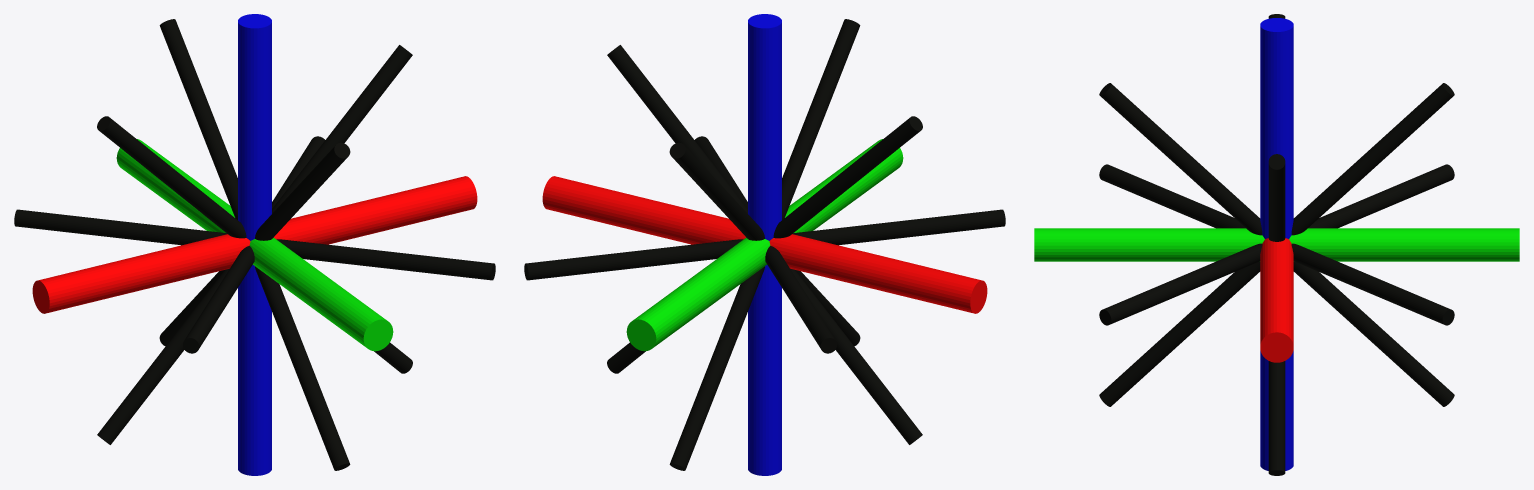
Rendered from axis_shaped_cross.glb.
3 renders of one model, left to right at view 1: azimuth 30°, elevation 25°; view 2: azimuth 150°, elevation 25°; view 3: azimuth 270°, elevation 25°, orthographic.
Visible parts, largest first — view 1: Cross_axis_shaped; view 2: Cross_axis_shaped; view 3: Cross_axis_shaped.
Boxes of the visible parts, left/top/right/bottom form: Cross_axis_shaped: left=14, top=14, right=495, bottom=475; Cross_axis_shaped: left=524, top=14, right=1005, bottom=475; Cross_axis_shaped: left=1034, top=14, right=1519, bottom=475.
Bounding box in the file's own units: 3 × 3 × 3.
